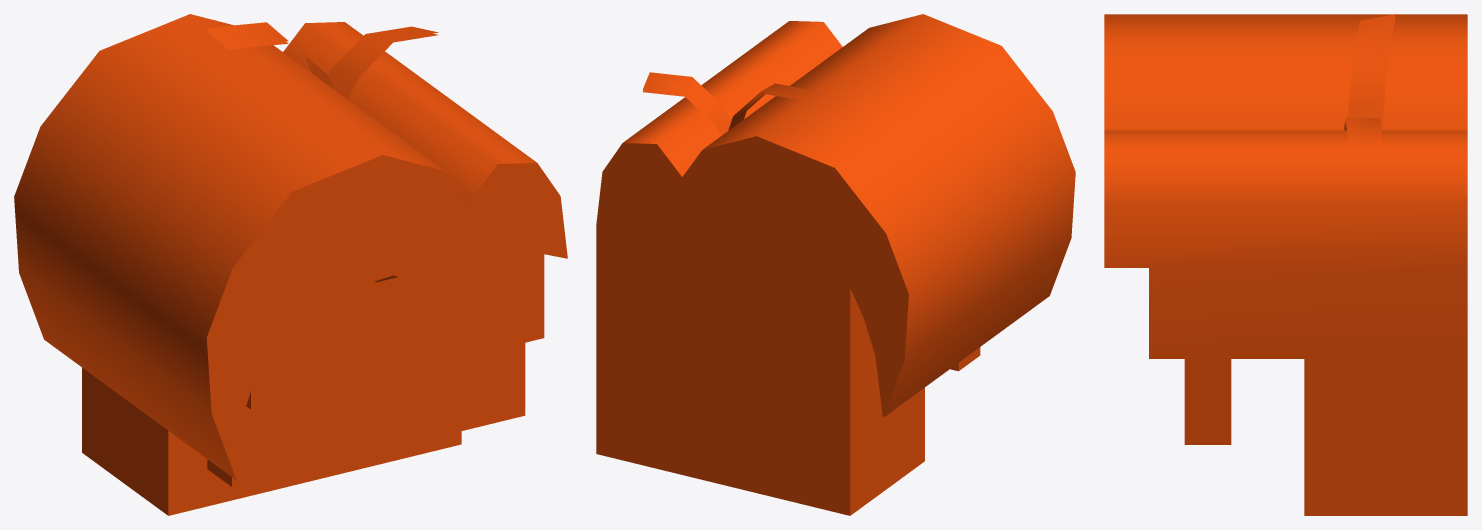
File: Hair Female 01.FBX
3 renders of one model, left to right at view 1: azimuth 30°, elevation 25°; view 2: azimuth 150°, elevation 25°; view 3: azimuth 270°, elevation 25°, orthographic. The views are drawn at different scales.
Parts seen in each view (by area): view 1: Hair Female 01; view 2: Hair Female 01; view 3: Hair Female 01.
Part boxes in pixels (box(x1,y1,x2,y2)): Hair Female 01: box(14, 14, 567, 515); Hair Female 01: box(596, 14, 1075, 515); Hair Female 01: box(1104, 14, 1467, 515).
Bounding box in the file's own units: 64.33 × 73.22 × 59.24.
1 material, 1 textured.
